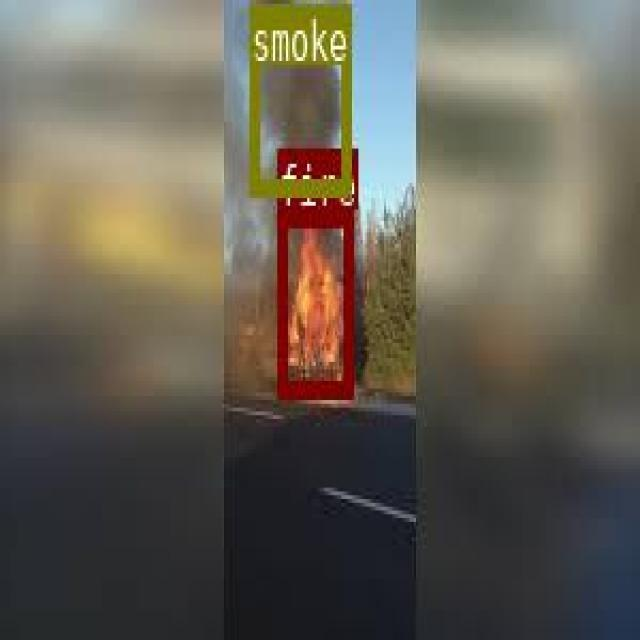fire: (276, 207, 351, 394)
smoke: (249, 1, 348, 192)
